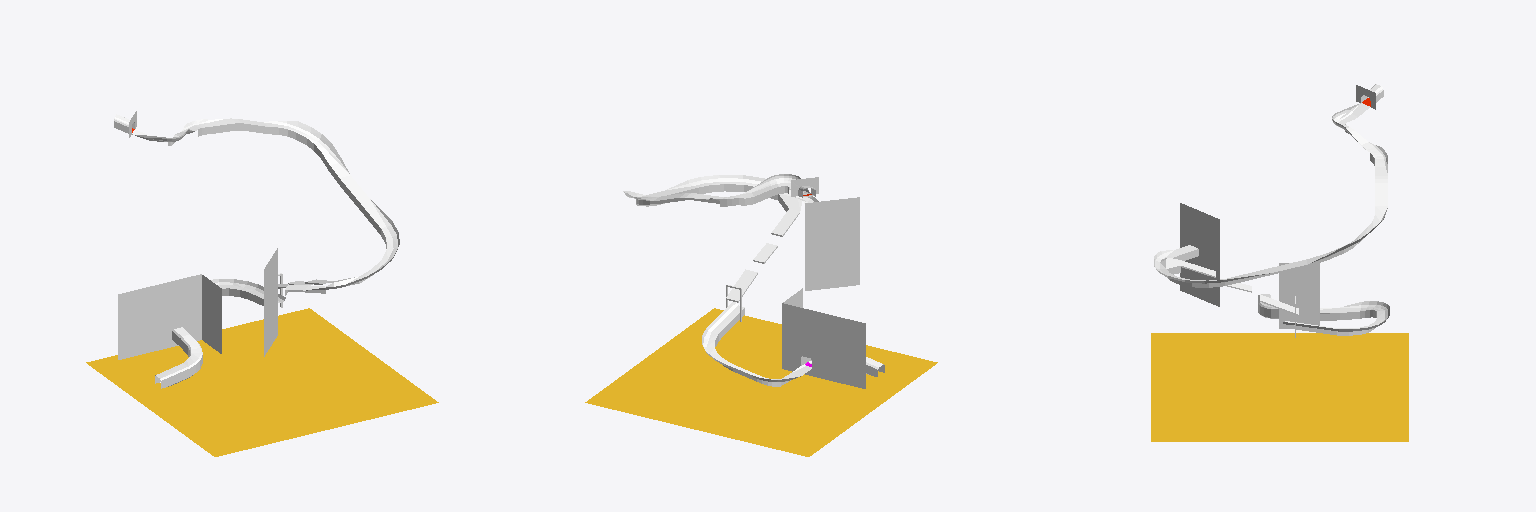
The model's file is Tall Tall Mountain Area 3.obj.
3 renders of one model, left to right at view 1: azimuth 30°, elevation 25°; view 2: azimuth 150°, elevation 25°; view 3: azimuth 270°, elevation 25°, orthographic.
Bounding box in the file's own units: 34608 × 35838 × 32766.